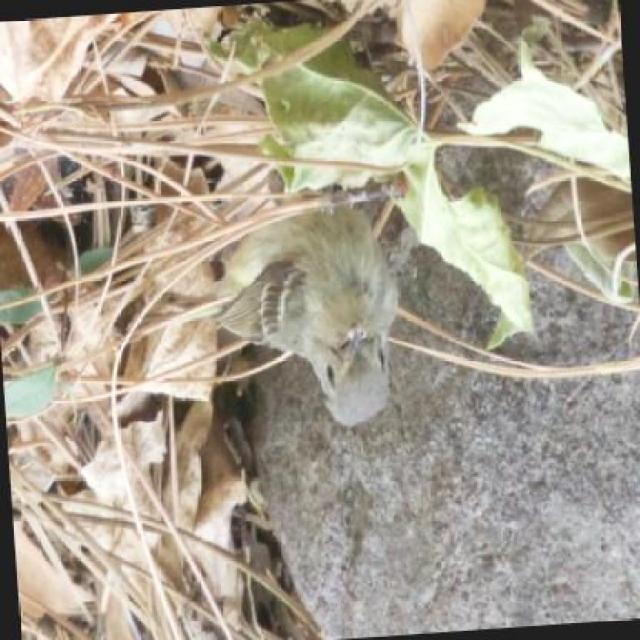Bird: (219, 200, 421, 424)
